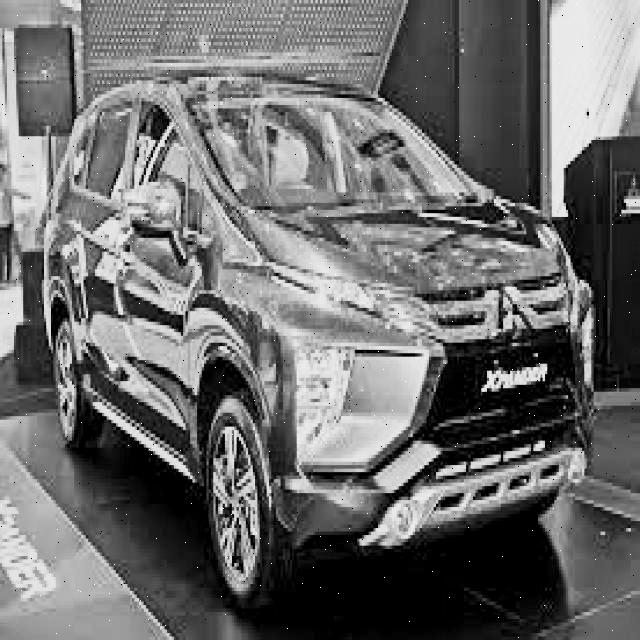Car: (40, 60, 602, 607)
